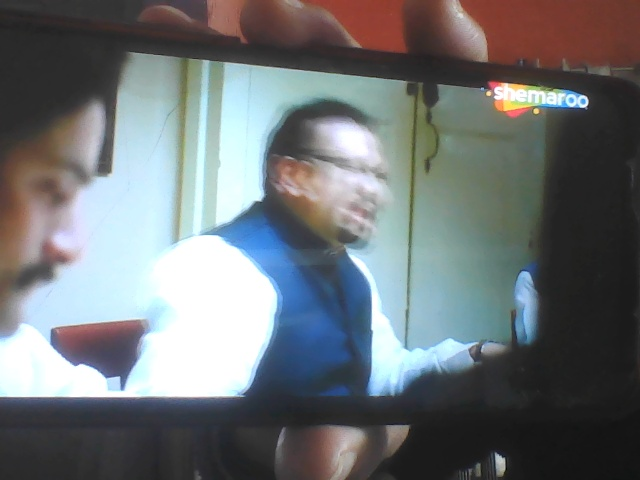fake: (265, 75, 395, 260)
